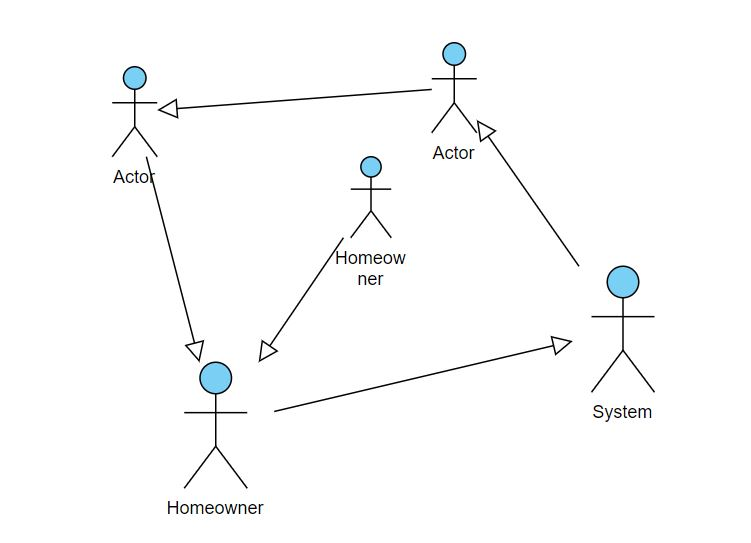actor: (179, 362, 248, 491), (587, 263, 655, 393), (112, 64, 159, 161), (428, 41, 477, 133), (345, 155, 391, 238)
generalization: (270, 335, 572, 412), (475, 119, 578, 264), (144, 158, 203, 362), (259, 238, 344, 362), (156, 85, 430, 119)
text: (162, 493, 267, 523), (329, 249, 408, 286), (585, 398, 653, 431), (426, 140, 479, 164), (109, 167, 156, 184)
